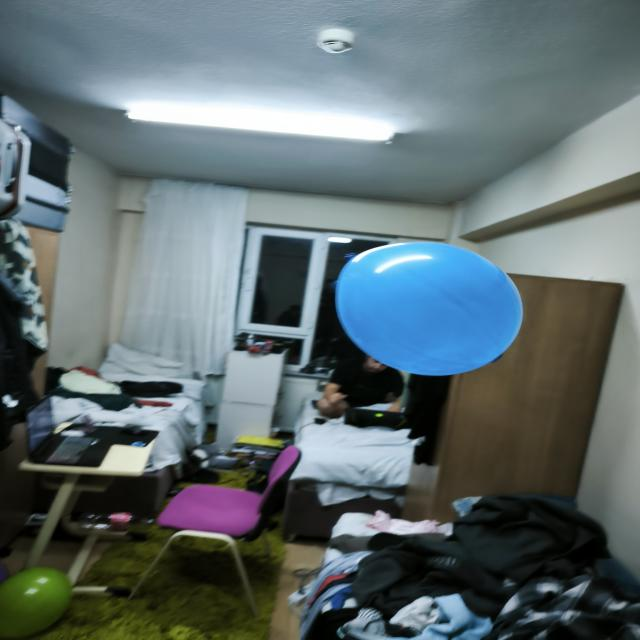balloon: (335, 242, 522, 376), (0, 567, 72, 638)
